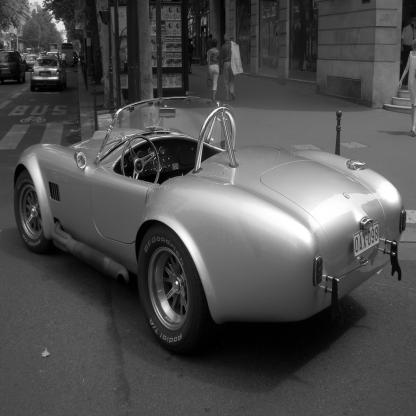Car: (15, 95, 408, 354), (32, 57, 68, 94), (1, 53, 28, 83)
